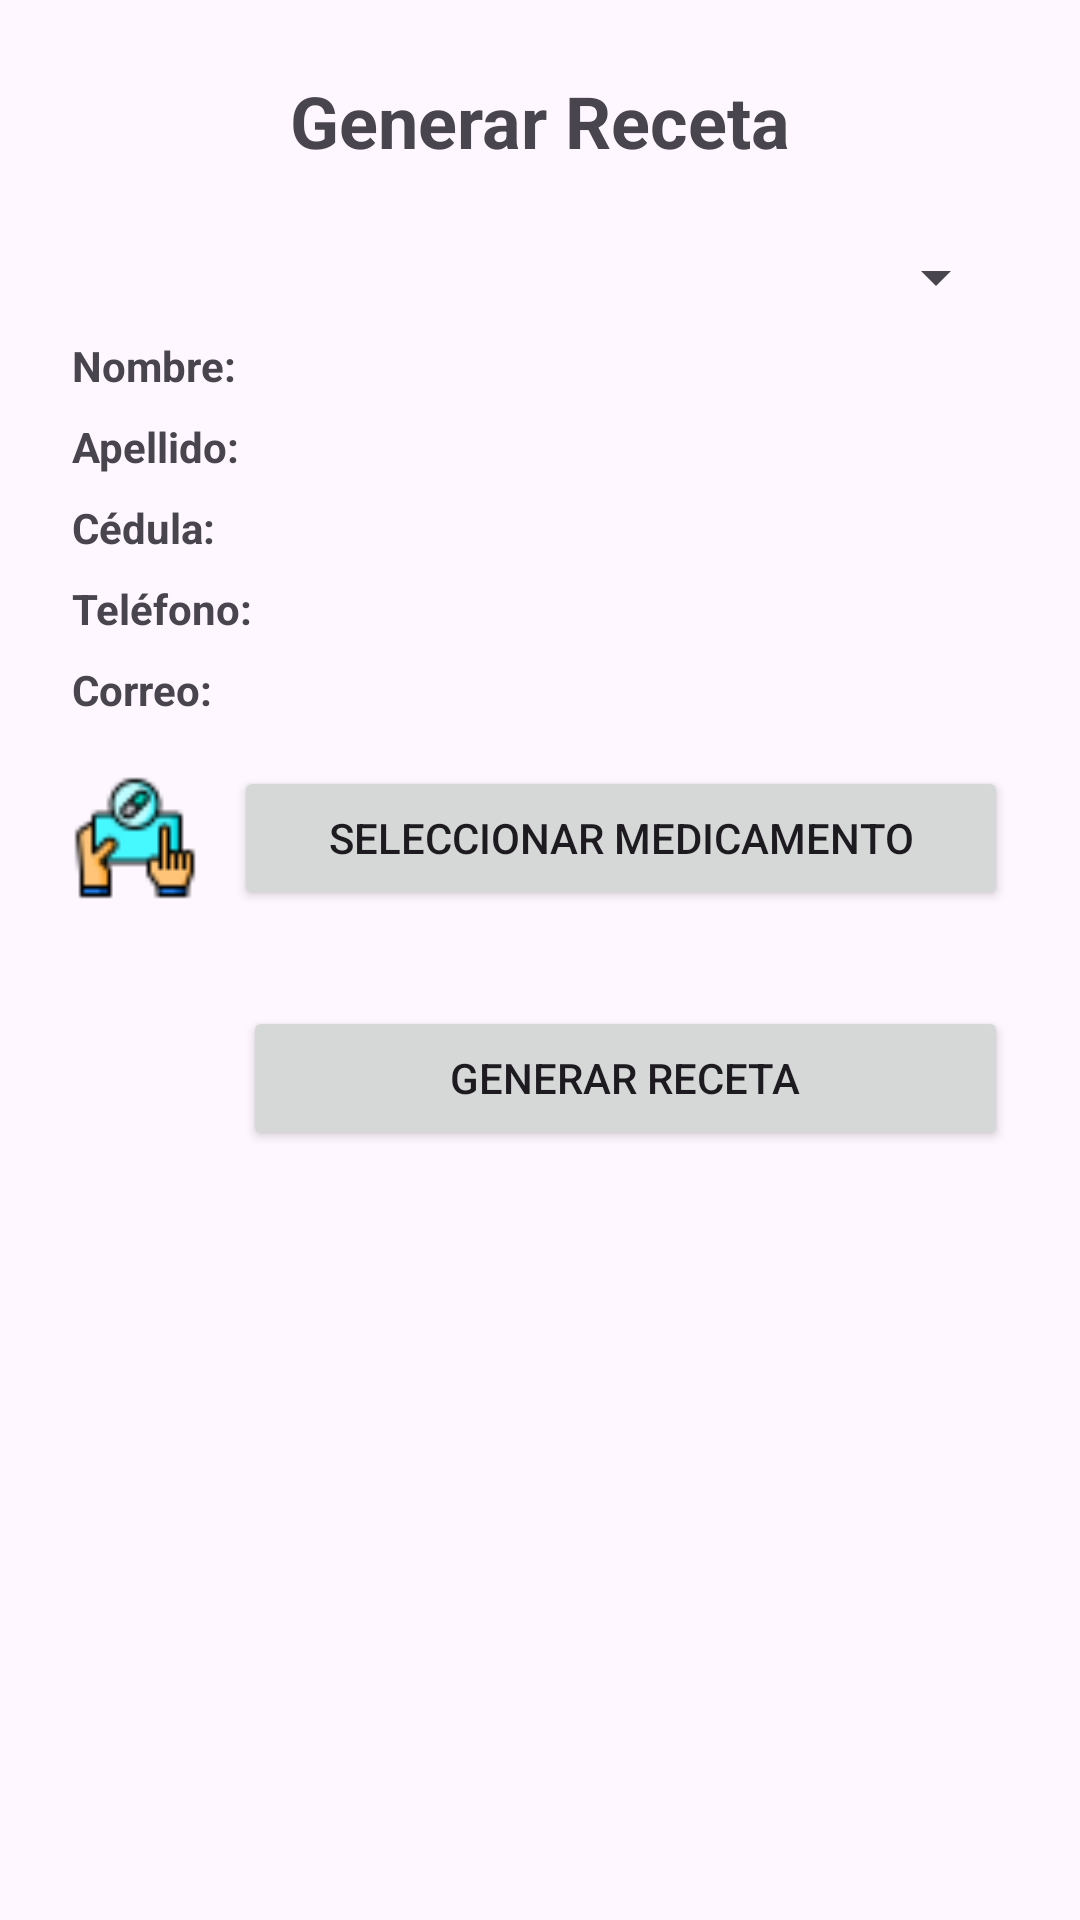

Screen size 1080*1920. Icon name, then its box in pixels as (x1, y1, x2, y2):
select drug: (74, 777, 196, 899)
